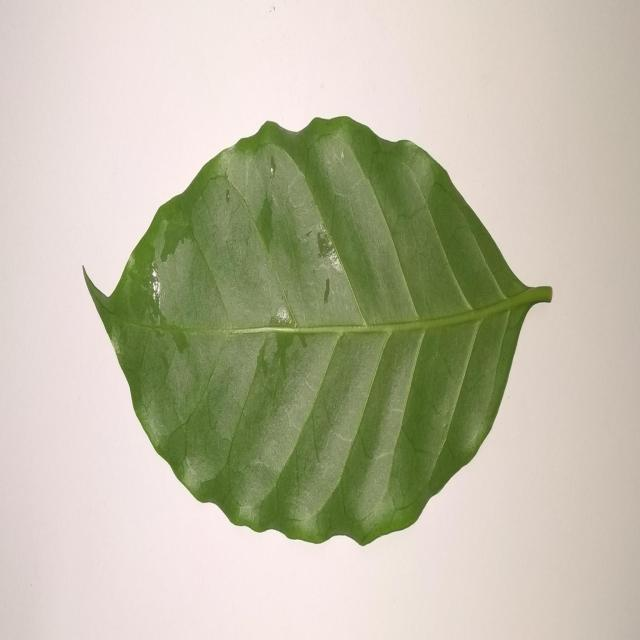Sanas: (82, 117, 553, 548)
